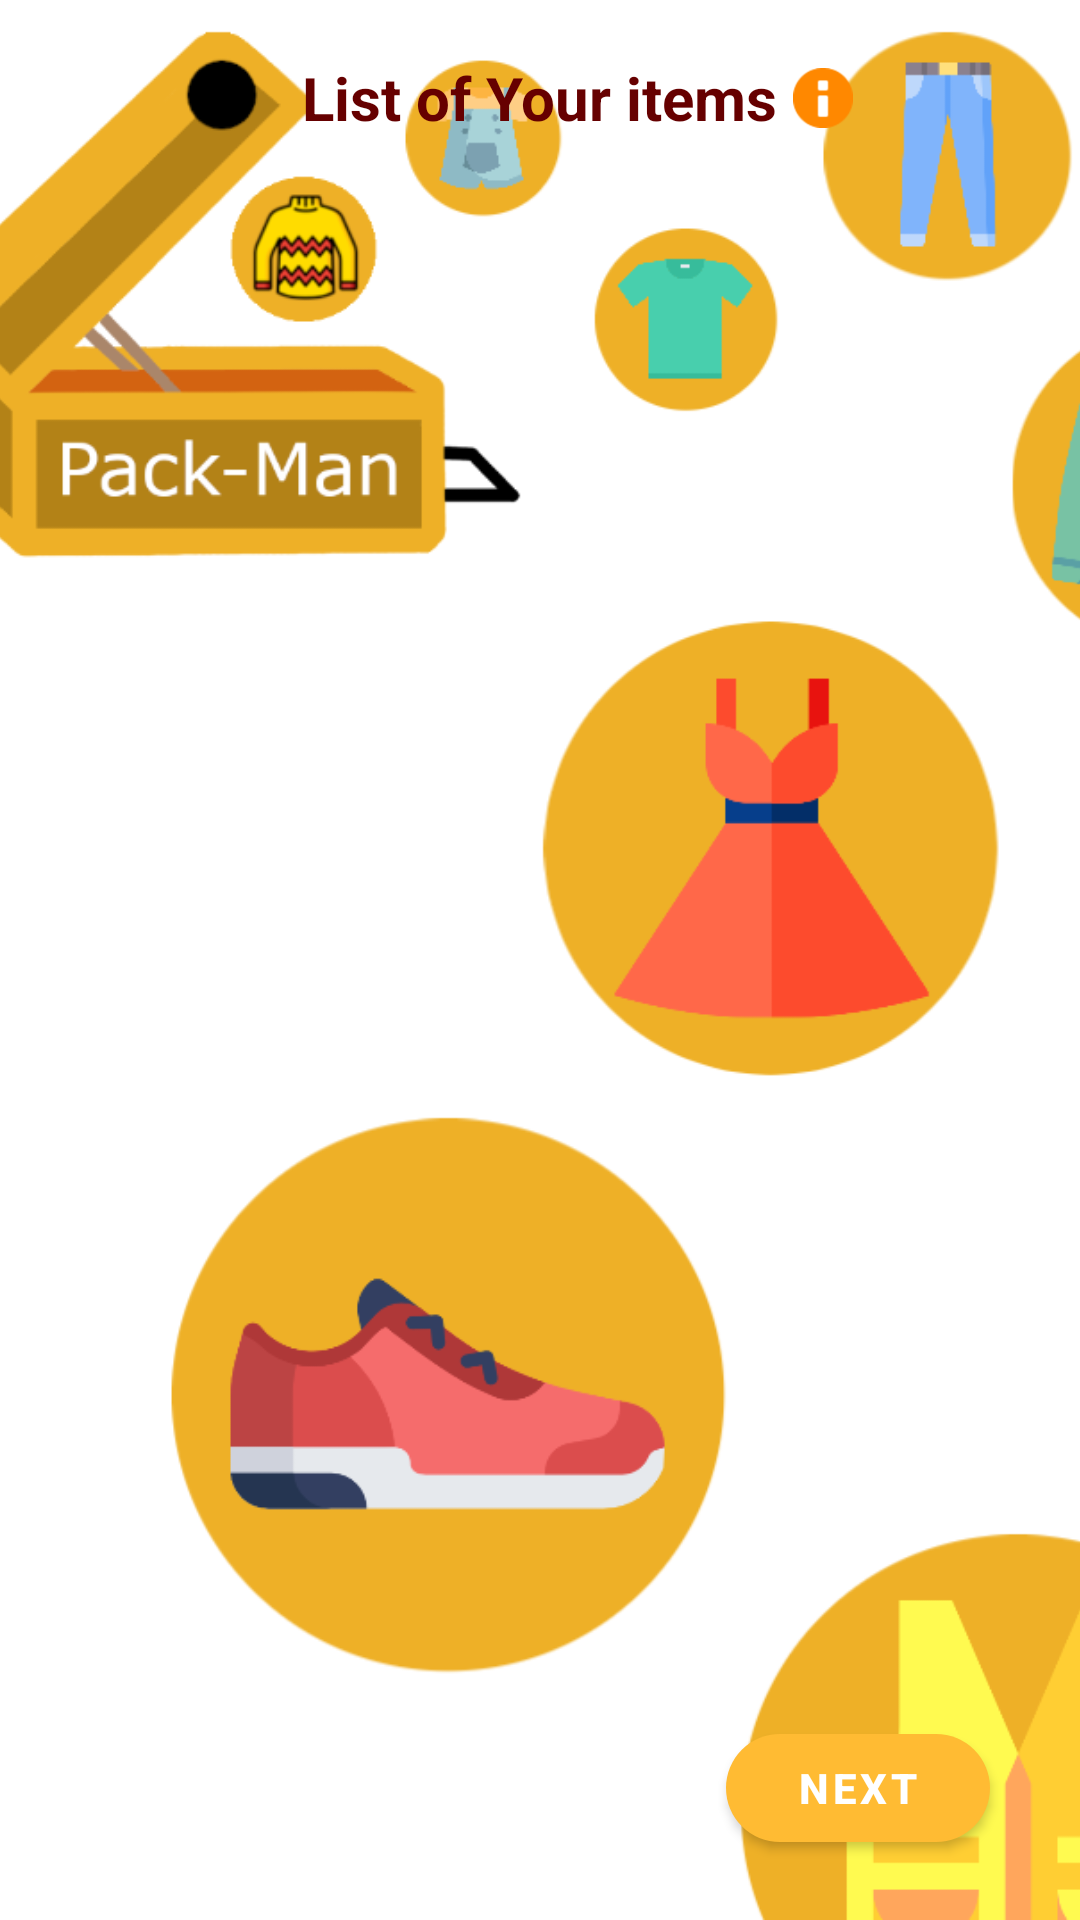

Icons on this 1080x1920 Android screen, each with the point to tap as [x,y]:
info: [823,98]
